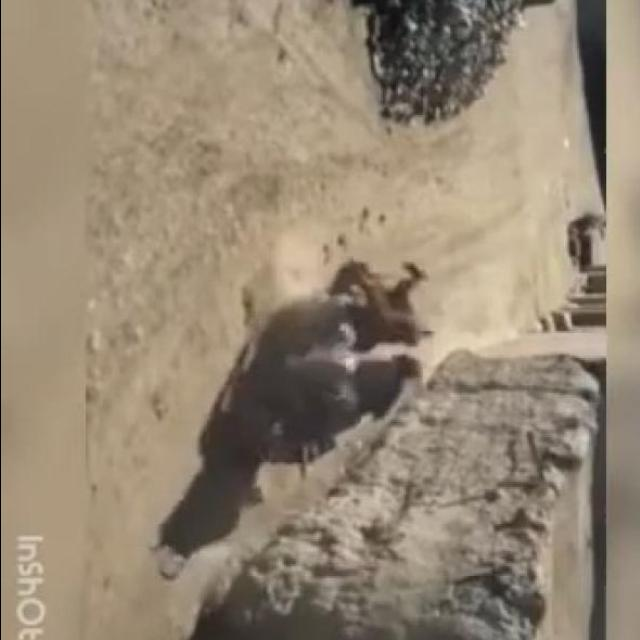accident: (217, 271, 443, 474)
